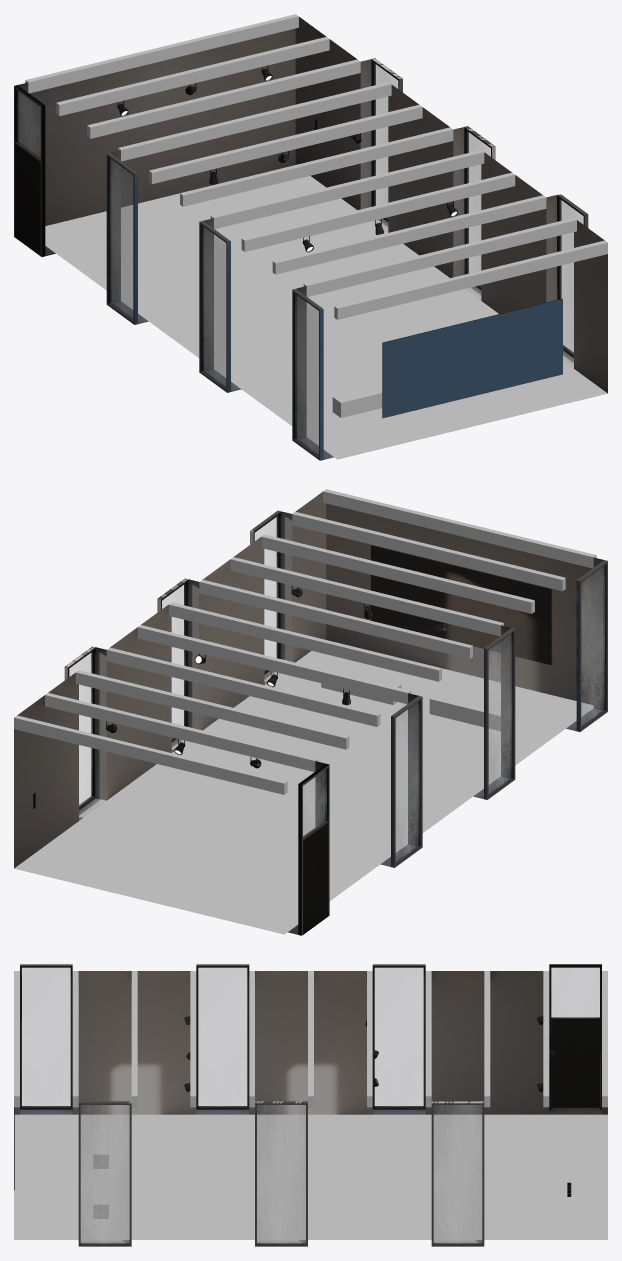
3 renders of one model, top to bottom at view 1: azimuth 30°, elevation 25°; view 2: azimuth 150°, elevation 25°; view 3: azimuth 270°, elevation 25°, orthographic. The views are drawn at different scales.
Visible parts, largest first — view 1: floor, walls, glass, paintiing, details; view 2: floor, walls, glass, details, paintiing; view 3: floor, walls, glass, details.
Part boxes in pixels (x1,y1,x2,y2): floor: [25, 14, 607, 459]; walls: [18, 17, 607, 459]; glass: [17, 63, 583, 455]; paintiing: [382, 298, 562, 418]; details: [14, 58, 588, 460]; floor: [14, 489, 596, 934]; walls: [14, 492, 603, 934]; glass: [69, 516, 604, 862]; details: [33, 510, 607, 935]; paintiing: [371, 545, 551, 664]; floor: [14, 971, 607, 1239]; walls: [14, 971, 607, 1243]; glass: [22, 967, 599, 1243]; details: [20, 964, 601, 1246].
Size of the model in its own units: 5.97 by 2.88 by 10.79.
